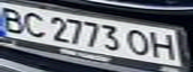2: (45, 14, 69, 44)
3: (100, 23, 124, 53)
7: (81, 19, 103, 49), (63, 16, 84, 46)
B: (0, 4, 30, 34)
C: (18, 9, 48, 38)
H: (148, 29, 181, 61)
O: (124, 27, 154, 57)
